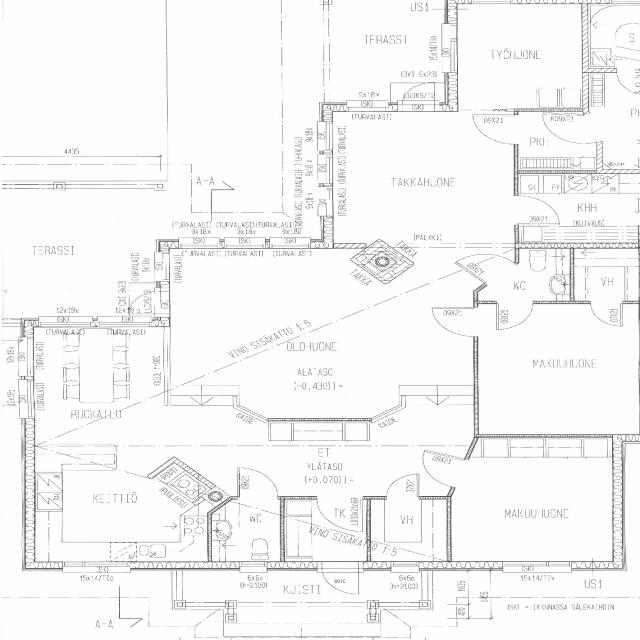door: (454, 242, 516, 284), (542, 112, 602, 152), (411, 449, 467, 487), (316, 496, 362, 531), (472, 114, 518, 144), (322, 561, 358, 597), (432, 307, 476, 336), (237, 467, 278, 498), (514, 196, 559, 224), (122, 290, 170, 314), (496, 300, 533, 329), (402, 80, 434, 112), (590, 300, 622, 326), (386, 473, 419, 498), (616, 68, 640, 95)
